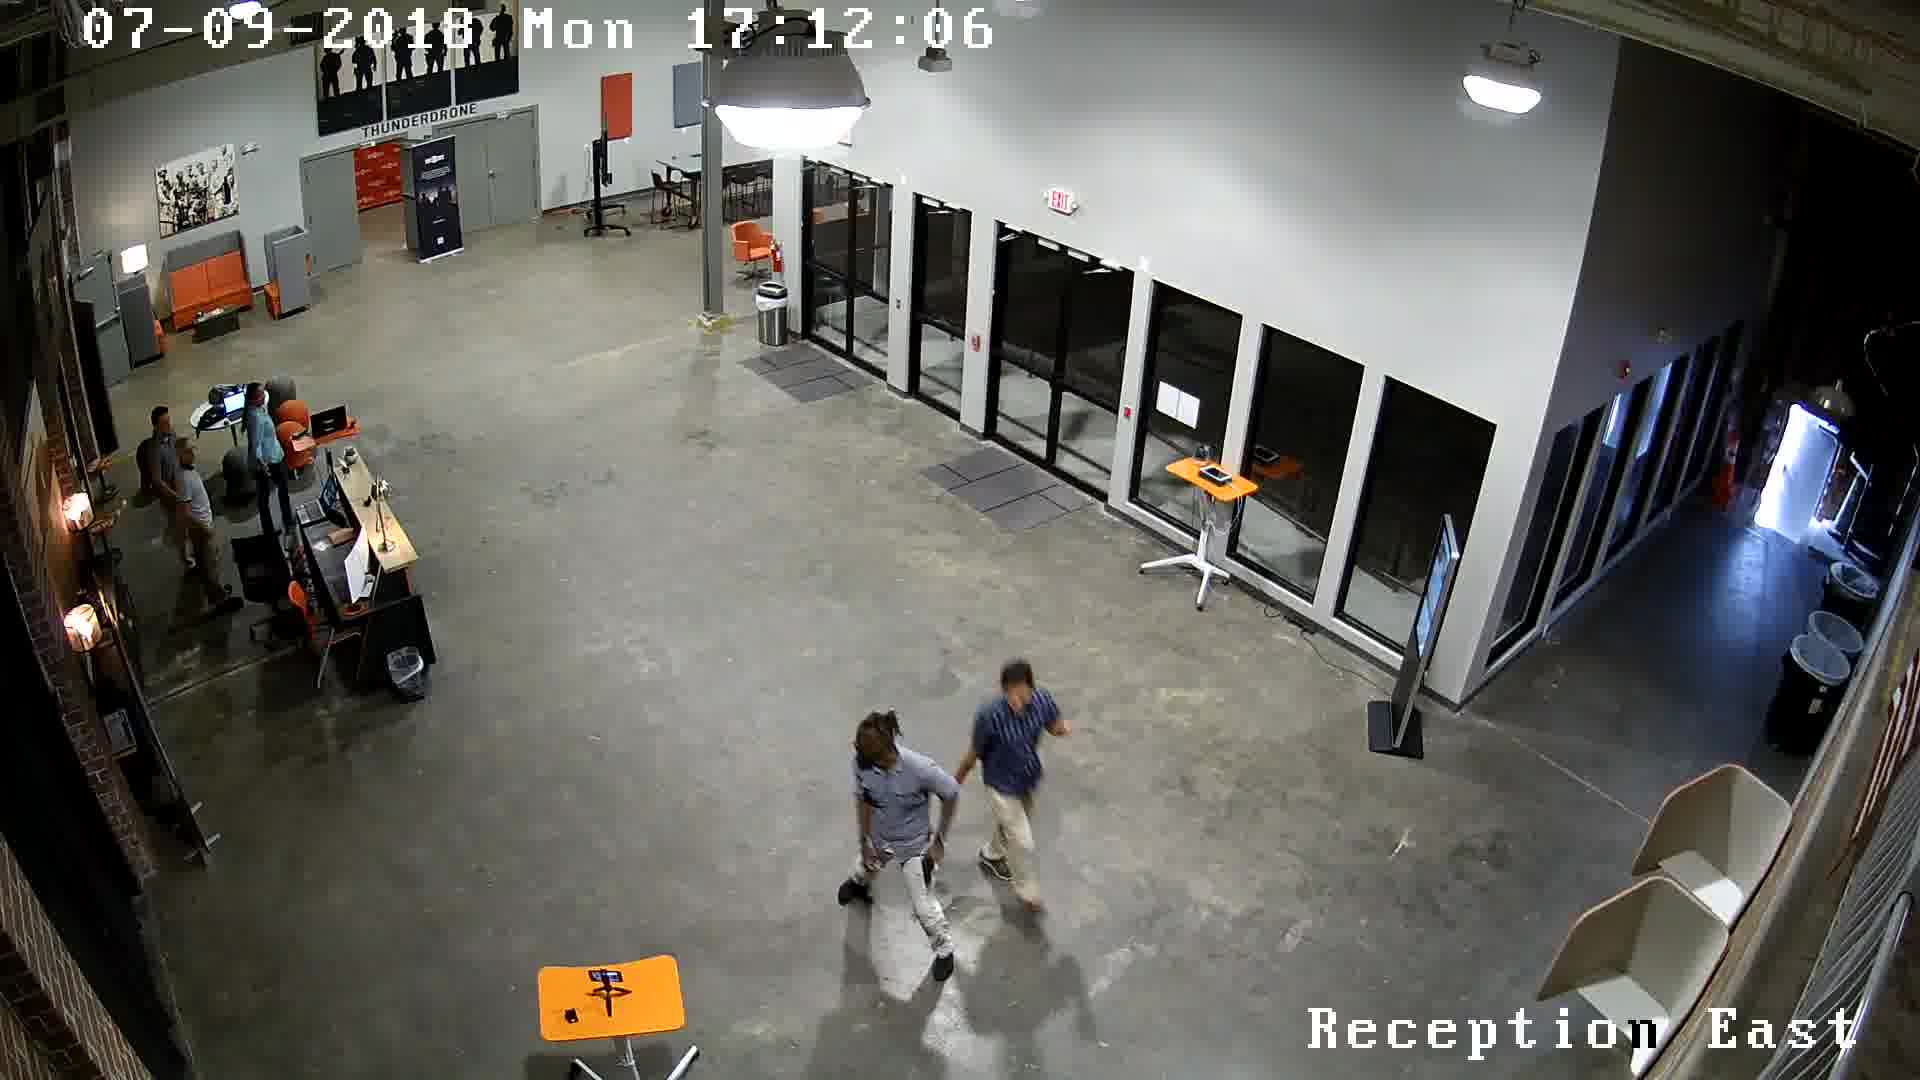pistol: (905, 841, 957, 894)
